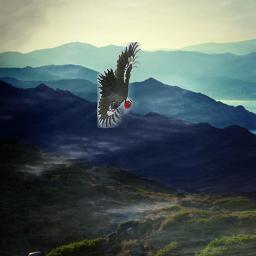Woodpecker: (97, 42, 142, 128)
